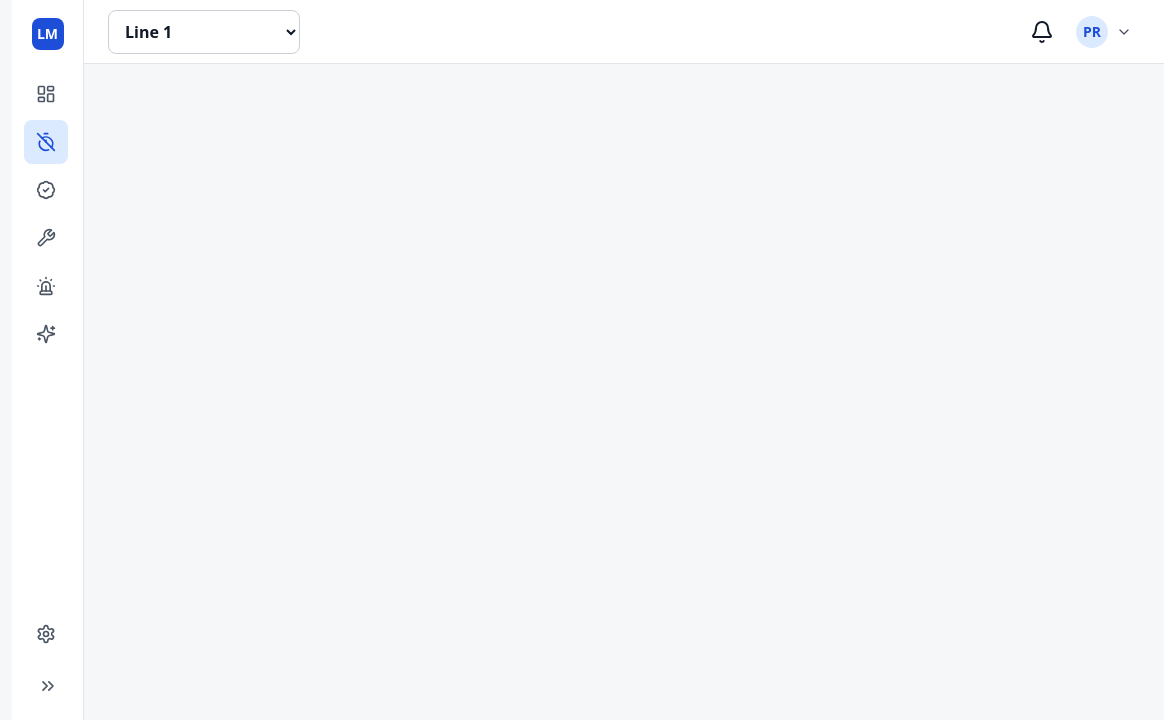
it: sidebar and line selector › switches line and stays on the same page
Select "Line 2" in the dropdown named "Line" at [204, 32], box left=108, top=10, right=300, bottom=54
(page scrolled)
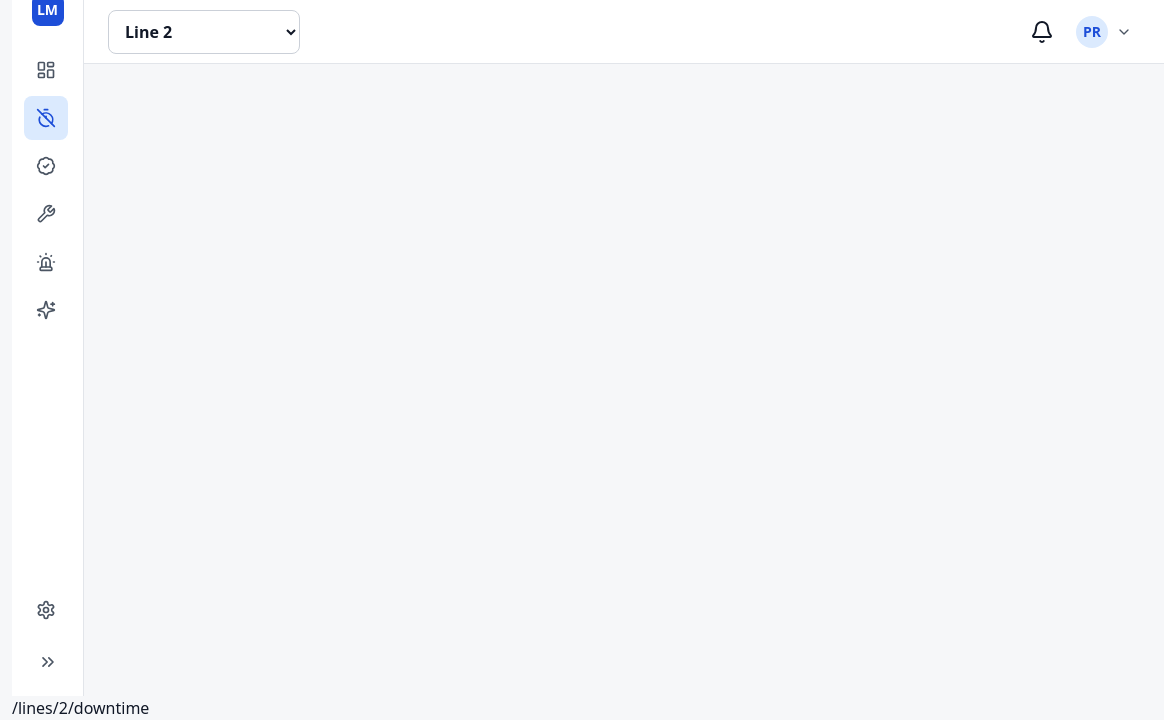
Expected: the text with test id "where" reads "/lines/2/downtime", left=12, top=697, right=149, bottom=719
